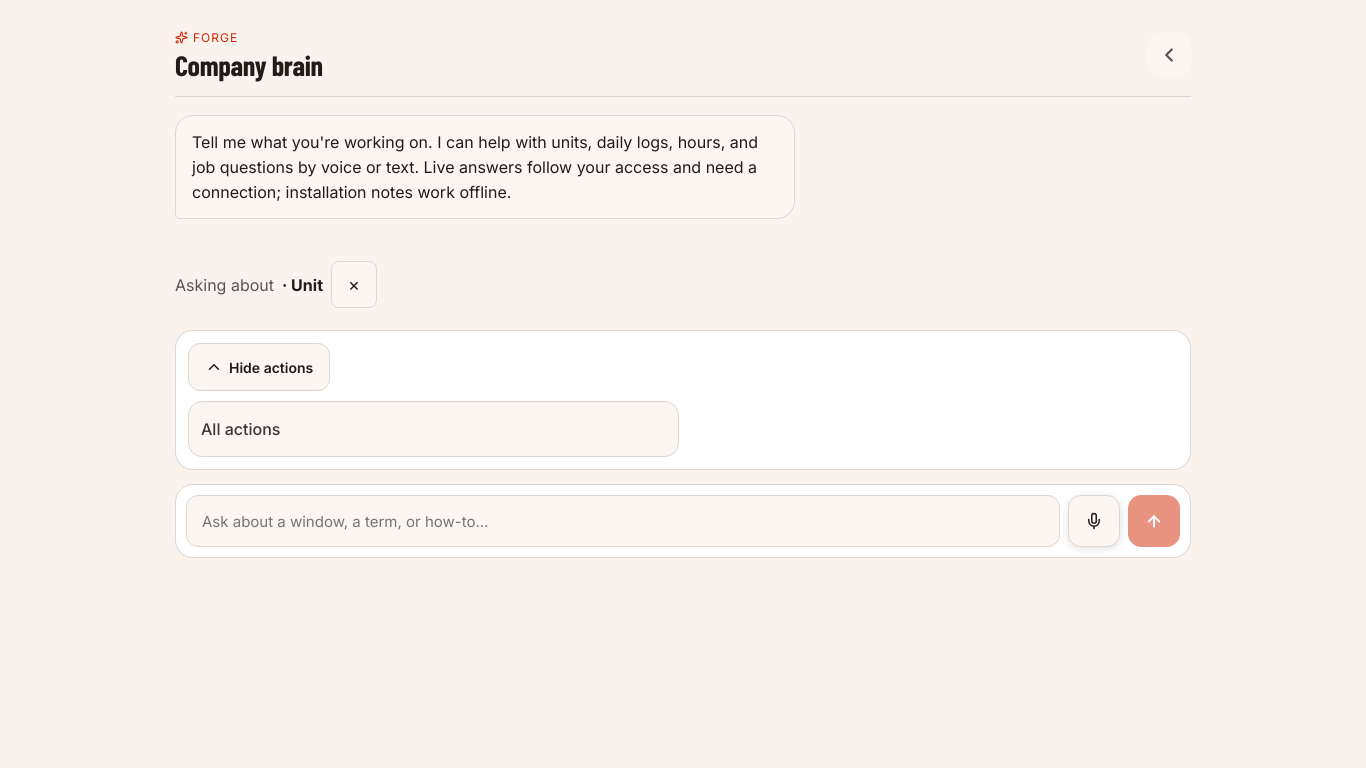
Test: minimized stays minimized (note 2) › a recording puts the cards away on its own, and finishing it does not bring them back
Expected: the element with class "ask-cards" is shown, [188, 401, 679, 457]
Click the button named "Record a voice message" at [1094, 521], box [1068, 495, 1120, 547]
(page scrolled)
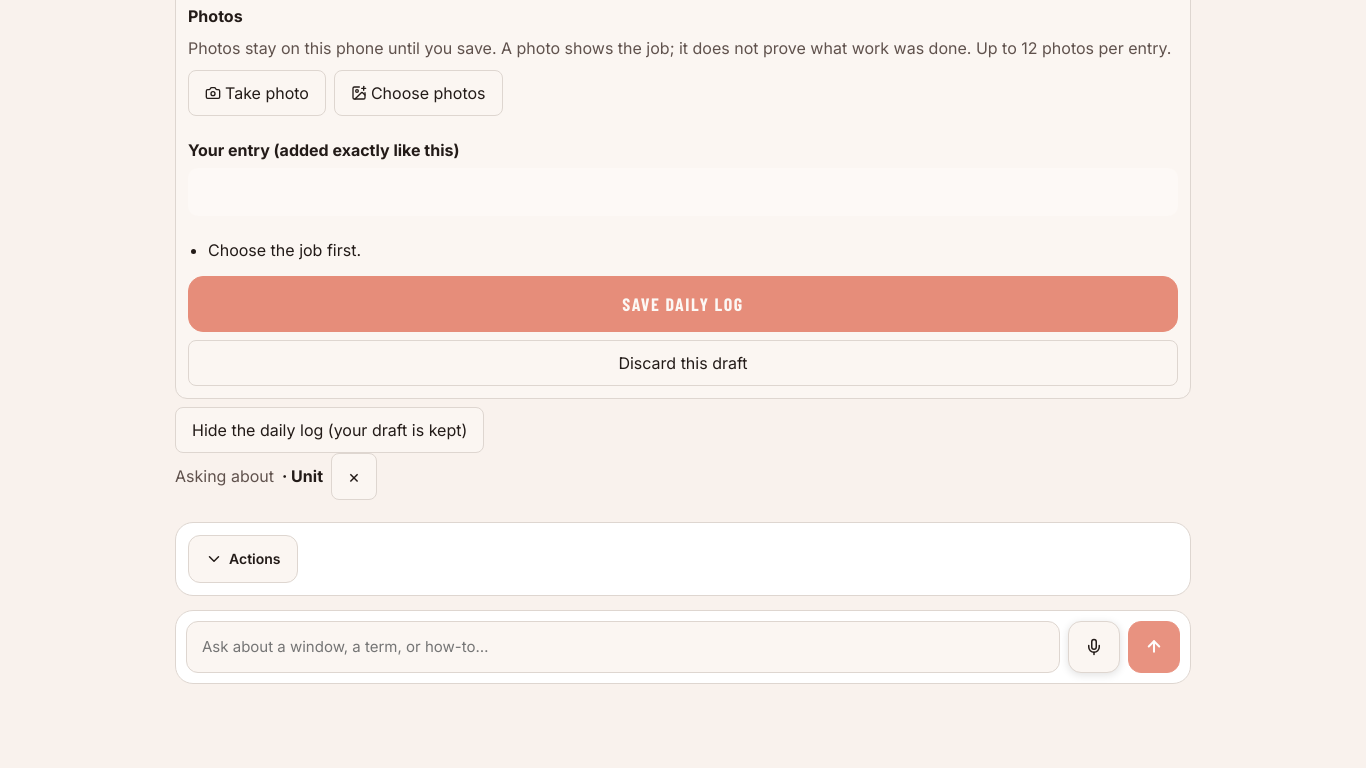
Expected: the button "Actions" is shown, [188, 535, 298, 583]
Now the element with class "ask-cards" is gone
